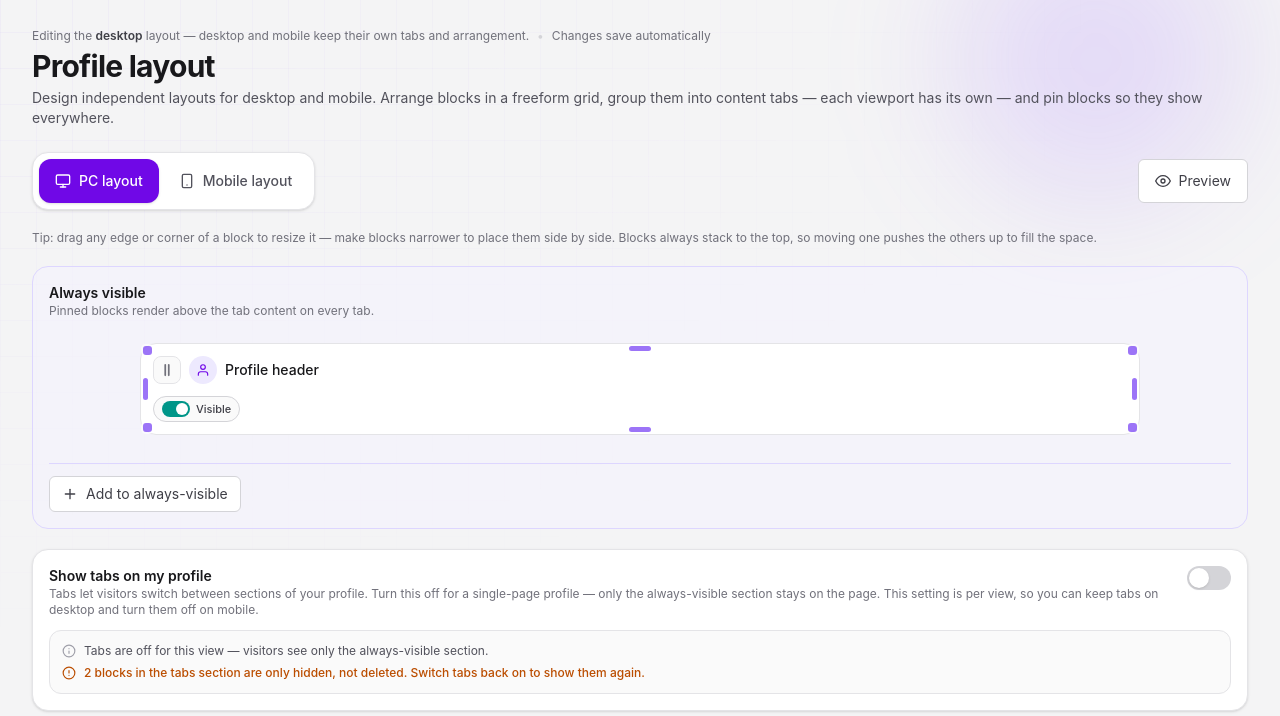
Scenario: ProfileLayoutPage — the editor grid with tabs off › brings the tab grid straight back when tabs go on again
Click the switch named "Show tabs on my profile": [1209, 578] box [1187,566,1231,590]
(page scrolled)
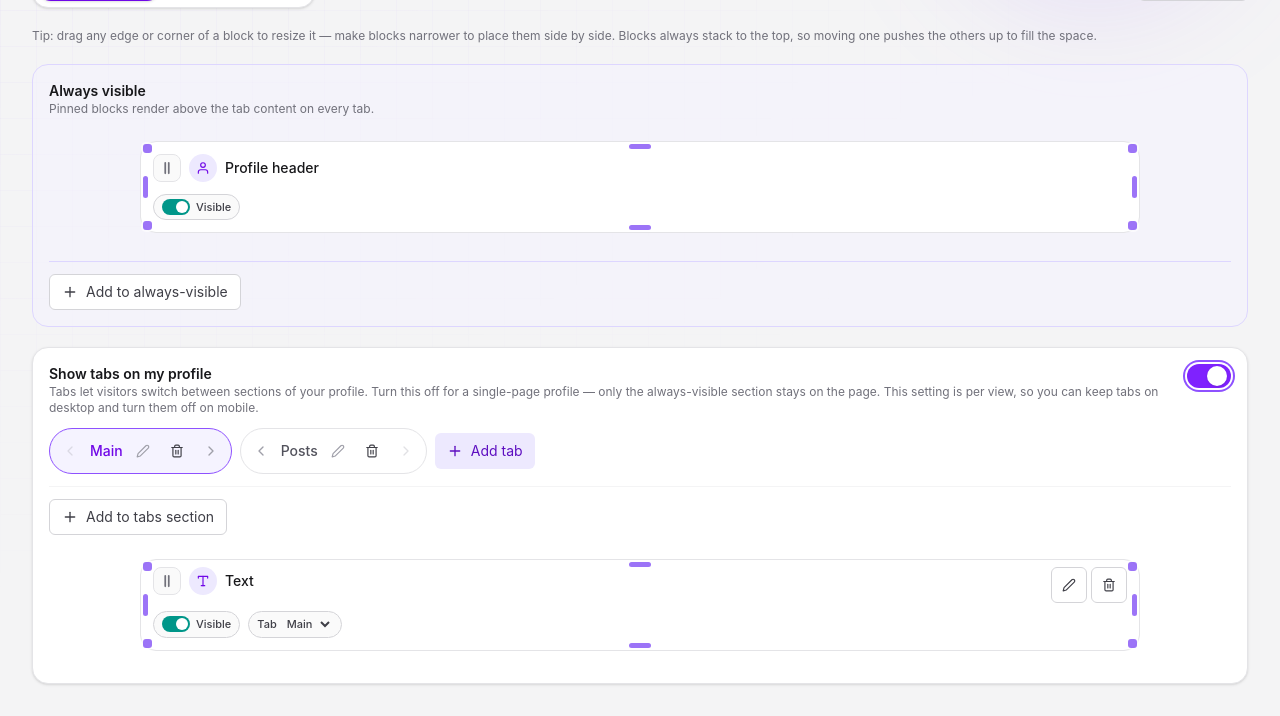
Now the switch named "Toggle Text visibility" is shown, box [162,616,190,632]
